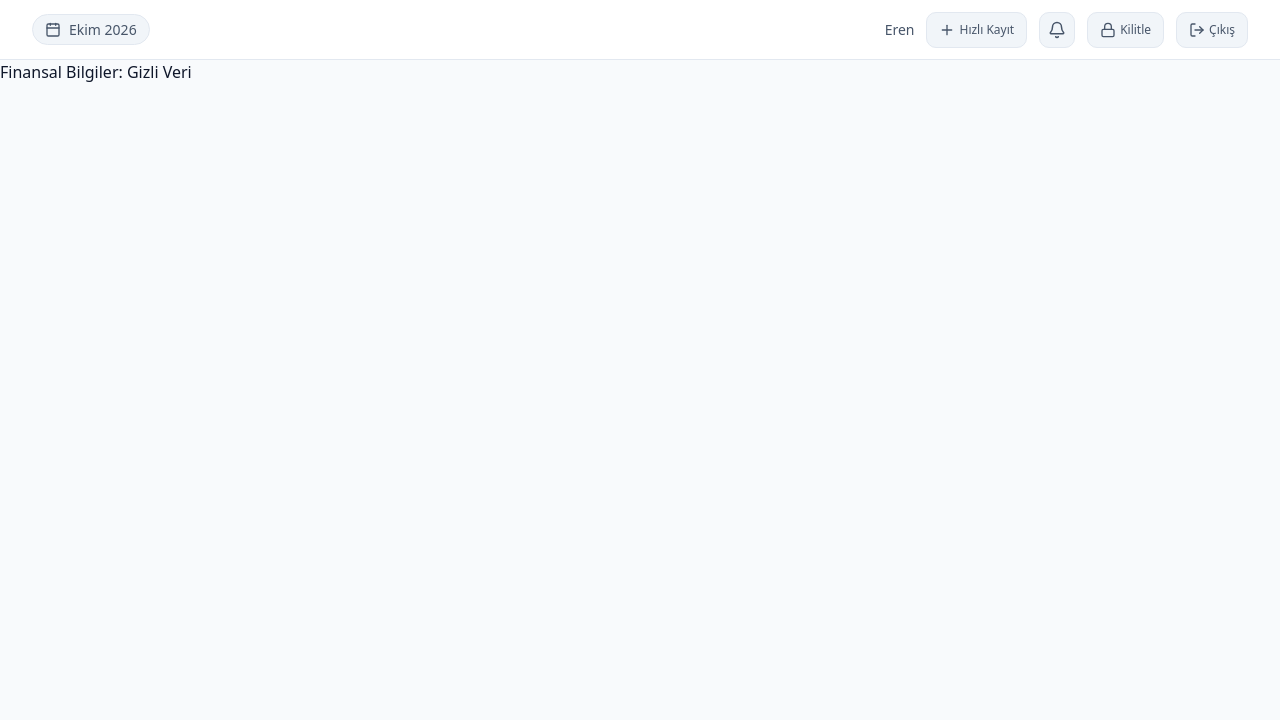
Test: Manual Lock Action — TopBar Kilitle & Step-Up Unlock › clicking Kilitle transitions UNLOCKED to REAUTH_REQUIRED and obscures content
Expected: the text "Finansal Bilgiler: Gizli Veri" is shown, [0,61,192,83]
Click "Kilitle" button
Click the button with test id "manual-lock-btn" at (1126, 30), box [1087,12,1164,48]
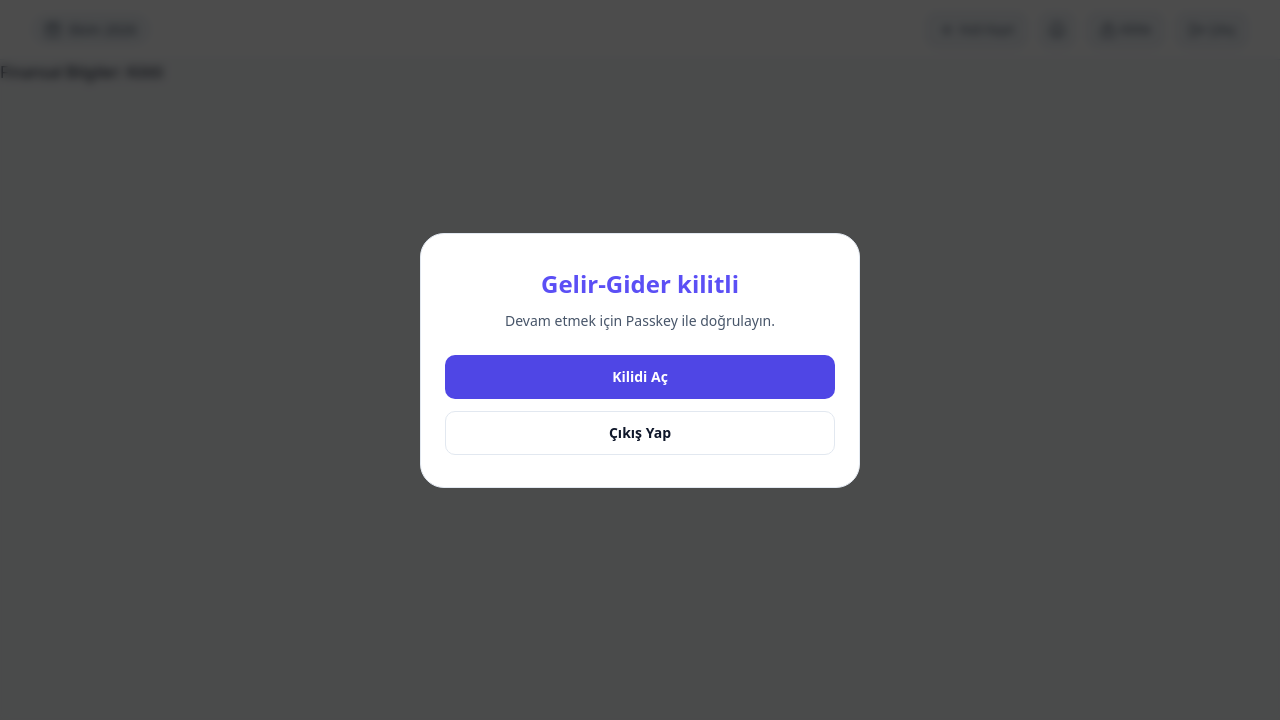
Result: the button "Kilidi Aç" is shown at [445,354,835,398]
Result: the heading "Gelir-Gider kilitli" is shown at [541,266,739,300]
